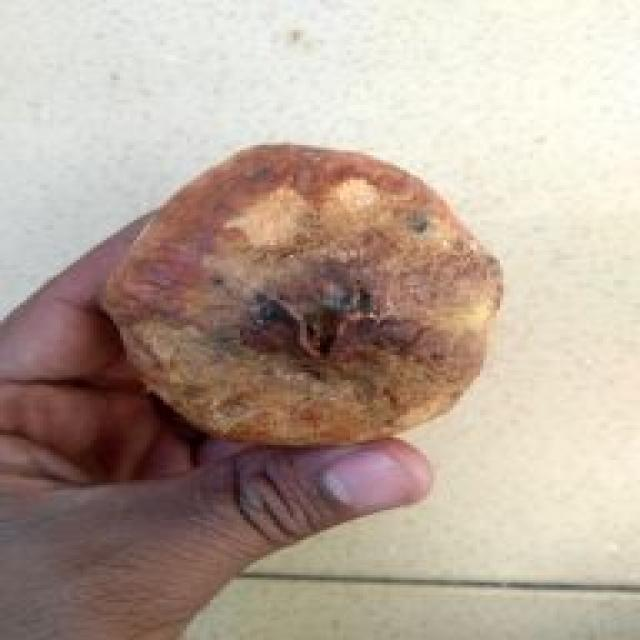Bad_Guava: (103, 145, 502, 444)
